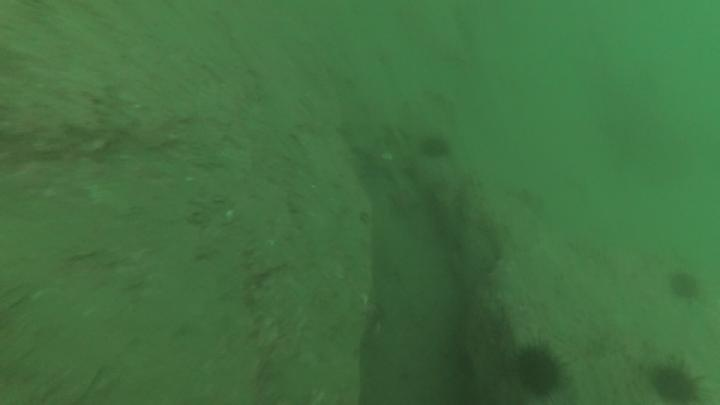echinus: (510, 339, 569, 402), (648, 359, 704, 404), (666, 268, 703, 303), (417, 132, 453, 162)
starfish: (384, 182, 423, 220)
